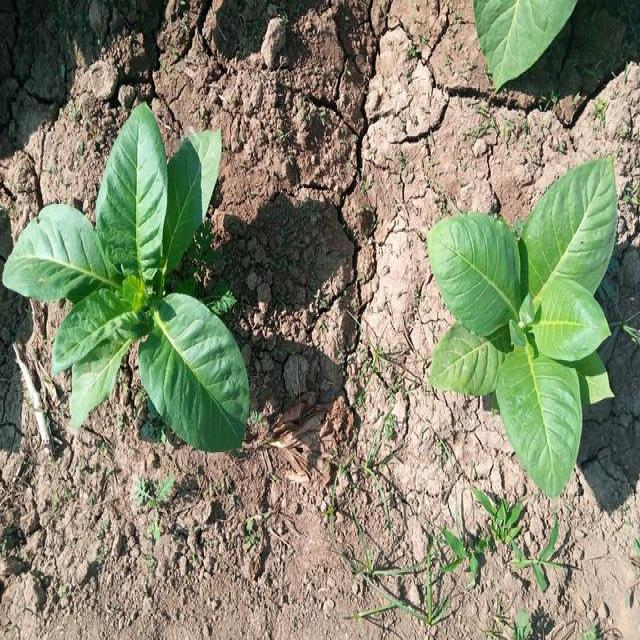crop: (22, 114, 248, 452), (428, 162, 622, 486), (472, 0, 575, 87)
